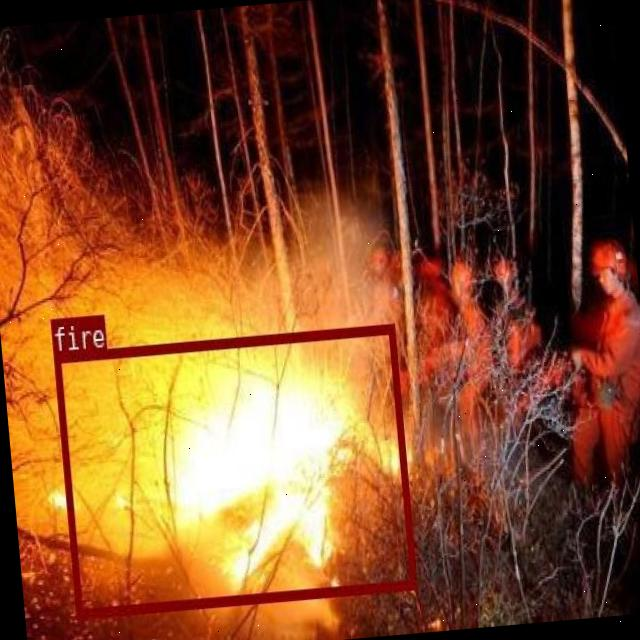fire: (52, 322, 416, 616)
